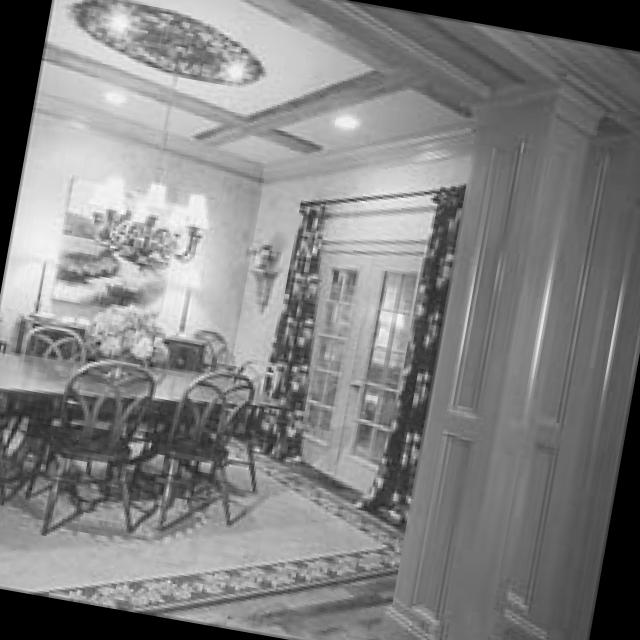2001: (298, 257, 369, 471)
bouquet: (84, 303, 186, 376), (250, 234, 278, 268)
buffet: (17, 310, 207, 370)
ceiling beam: (36, 0, 481, 171)
ceiling lamps: (92, 172, 211, 270)
chair: (22, 319, 95, 366), (241, 357, 281, 389)
chair -occluded-: (5, 353, 163, 534), (131, 368, 259, 521)
curtain crop: (356, 184, 471, 525), (254, 205, 330, 459)
door bars: (332, 260, 425, 482)
door mat: (350, 373, 370, 386)
lamp crop: (176, 251, 207, 331), (32, 229, 59, 312)
painting crop: (55, 176, 184, 317)
shelf crop: (255, 273, 283, 308)
table -X: (0, 348, 290, 404)
